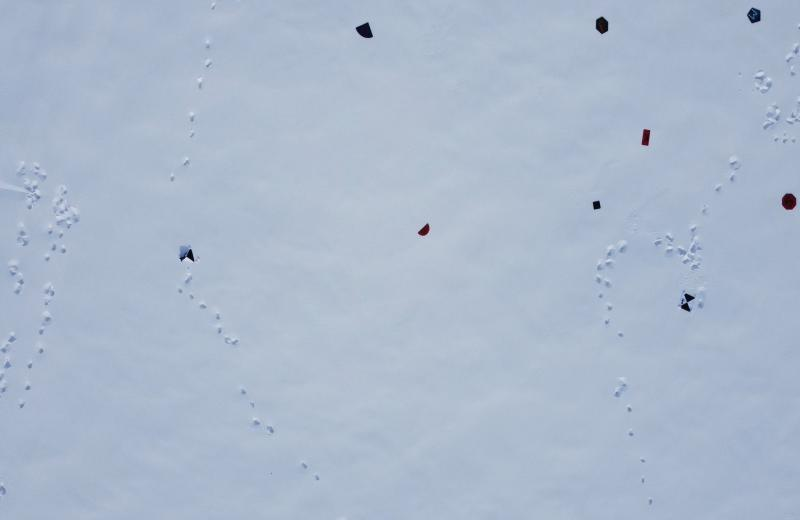Hexagon: (594, 16, 610, 35)
Octagon: (782, 192, 798, 212)
Pentagon: (746, 7, 762, 24)
Quarter Circle: (355, 22, 374, 42)
Rectangle: (640, 126, 652, 147)
Semi Circle: (418, 222, 431, 238)
Square: (592, 199, 602, 212)
